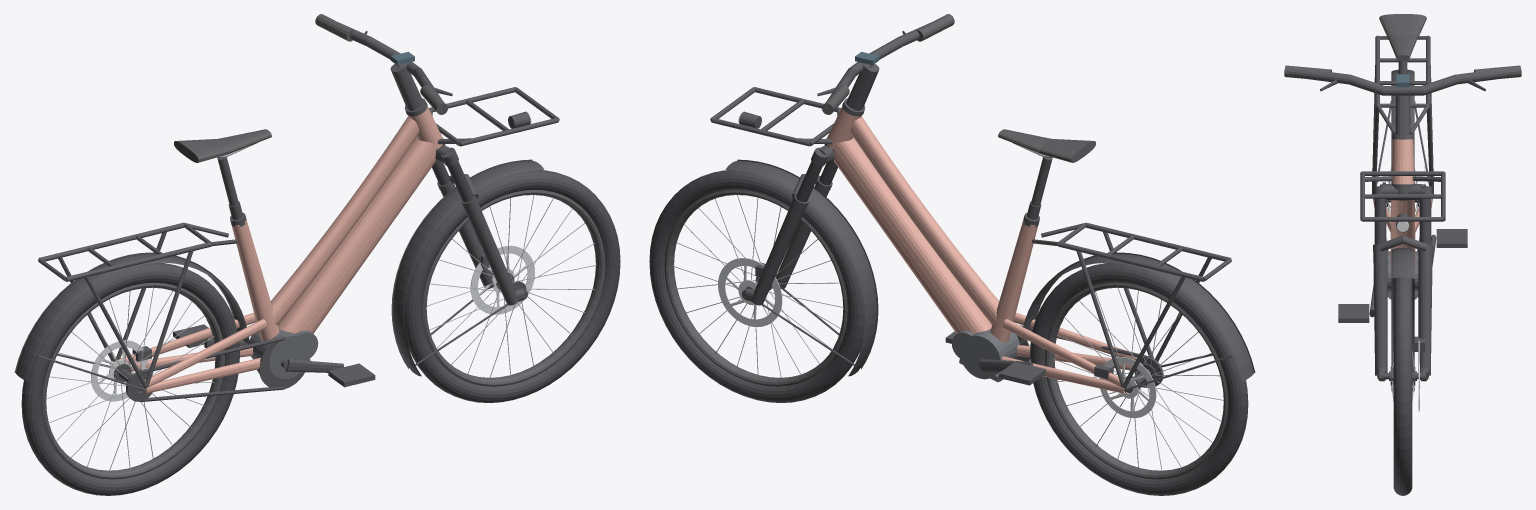
File: ebike-mtb-conway-cairon-suv-fs-6-0-auto-wave.glb
3 renders of one model, left to right at view 1: azimuth 30°, elevation 25°; view 2: azimuth 150°, elevation 25°; view 3: azimuth 270°, elevation 25°, orthographic. The views are drawn at different scales.
Parts seen in each view (by area): view 1: front_wheel_tire, rear_wheel_tire, accessories_fenders, frame_downtube, frame_stepthrough_toptube, accessories_rear_rack, front_wheel_rim, rear_wheel_rim, fork_lowers, front_wheel_spokes, frame_seattube, rear_seatstays (+15 smaller); view 2: front_wheel_tire, rear_wheel_tire, accessories_fenders, frame_downtube, frame_stepthrough_toptube, accessories_rear_rack, front_wheel_rim, rear_wheel_rim, fork_lowers, frame_seattube, ebike_motor_housing, rear_wheel_spokes (+13 smaller); view 3: front_wheel_tire, fork_lowers, accessories_rear_rack, accessories_fenders, cockpit_riser_bar, accessories_front_rack, saddle_shell, drivetrain_crankset, fork_stanchions, frame_headtube, frame_downtube, fork_crown (+3 smaller).
Boxes of the visible parts, x1=… form: front_wheel_tire: x1=405, y1=170, x2=620, y2=402; rear_wheel_tire: x1=21, y1=263, x2=239, y2=495; accessories_fenders: x1=14, y1=159, x2=544, y2=391; frame_downtube: x1=278, y1=137, x2=436, y2=333; frame_stepthrough_toptube: x1=270, y1=116, x2=419, y2=325; accessories_rear_rack: x1=38, y1=222, x2=237, y2=388; front_wheel_rim: x1=422, y1=190, x2=605, y2=386; rear_wheel_rim: x1=42, y1=282, x2=224, y2=479; fork_lowers: x1=437, y1=174, x2=527, y2=305; front_wheel_spokes: x1=427, y1=195, x2=596, y2=378; frame_seattube: x1=231, y1=219, x2=279, y2=341; rear_seatstays: x1=115, y1=312, x2=266, y2=386; front_wheel_tire: x1=649, y1=170, x2=864, y2=402; rear_wheel_tire: x1=1030, y1=263, x2=1248, y2=495; accessories_fenders: x1=725, y1=159, x2=1255, y2=391; frame_downtube: x1=833, y1=137, x2=991, y2=333; frame_stepthrough_toptube: x1=850, y1=116, x2=999, y2=325; accessories_rear_rack: x1=1032, y1=222, x2=1231, y2=388; front_wheel_rim: x1=664, y1=190, x2=847, y2=386; rear_wheel_rim: x1=1045, y1=282, x2=1227, y2=479; fork_lowers: x1=742, y1=174, x2=832, y2=305; frame_seattube: x1=990, y1=219, x2=1038, y2=342; ebike_motor_housing: x1=951, y1=322, x2=1019, y2=382; rear_wheel_spokes: x1=1052, y1=288, x2=1223, y2=470; front_wheel_tire: x1=1393, y1=277, x2=1412, y2=495; fork_lowers: x1=1373, y1=235, x2=1432, y2=381; accessories_rear_rack: x1=1372, y1=35, x2=1433, y2=194; accessories_fenders: x1=1376, y1=69, x2=1429, y2=391; cockpit_riser_bar: x1=1284, y1=70, x2=1521, y2=95; accessories_front_rack: x1=1360, y1=171, x2=1445, y2=221; saddle_shell: x1=1379, y1=14, x2=1426, y2=60; drivetrain_crankset: x1=1338, y1=229, x2=1467, y2=322; fork_stanchions: x1=1374, y1=198, x2=1431, y2=244; frame_headtube: x1=1391, y1=139, x2=1414, y2=184; frame_downtube: x1=1390, y1=200, x2=1415, y2=269; fork_crown: x1=1373, y1=184, x2=1432, y2=200.
Bounding box in the file's own units: 1.9 × 1.13 × 0.6775.
